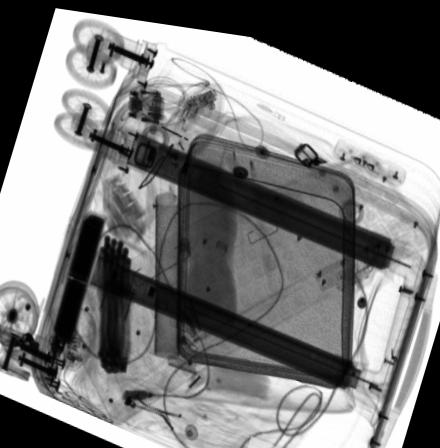Powerbank: (50, 209, 109, 344)
